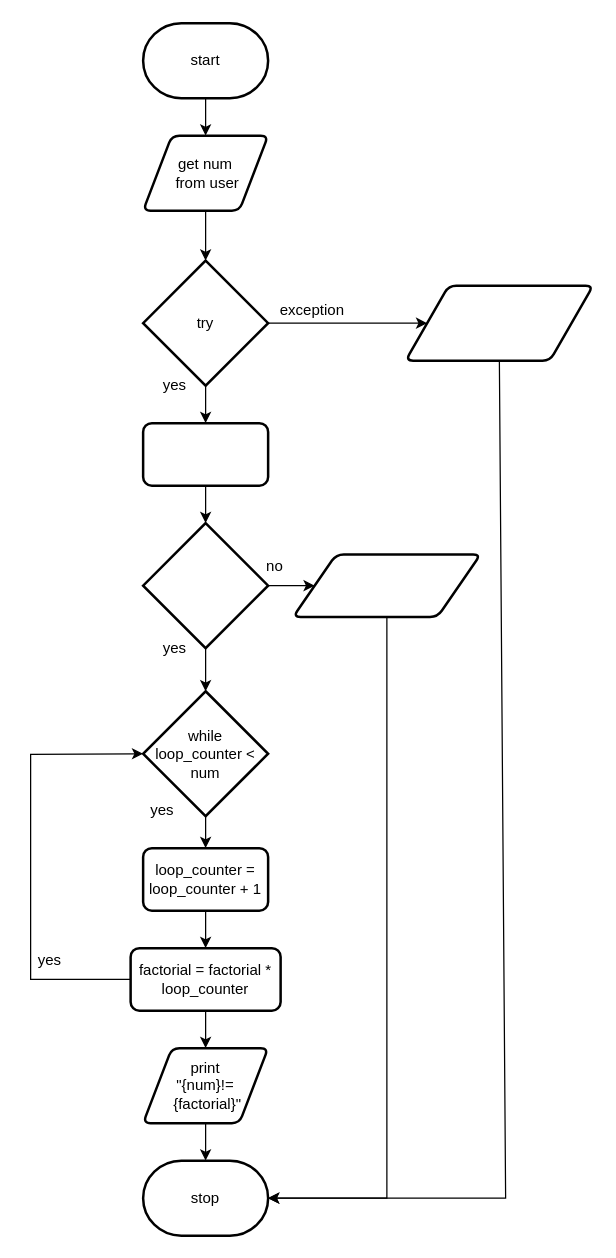
Image size: 616x1258. Some labels were removed from this diagram. The box of each missing label's shape, as (x1, y1, x2, y2) in pixels:
convert string to int: (141, 421, 269, 486)
if num >= 0: (141, 521, 269, 649)
print "{0} is not a positive integer.": (291, 552, 481, 618)
print "{0} not valid input": (404, 284, 594, 361)
